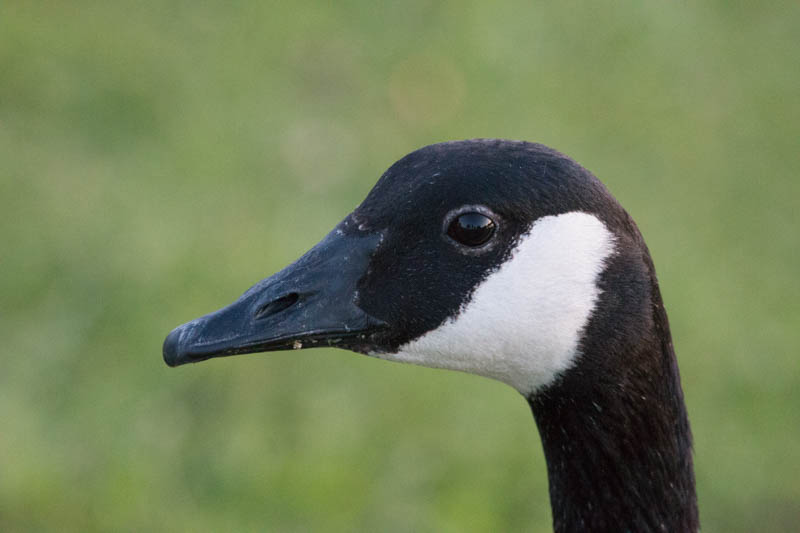goose-head: (161, 138, 664, 400)
